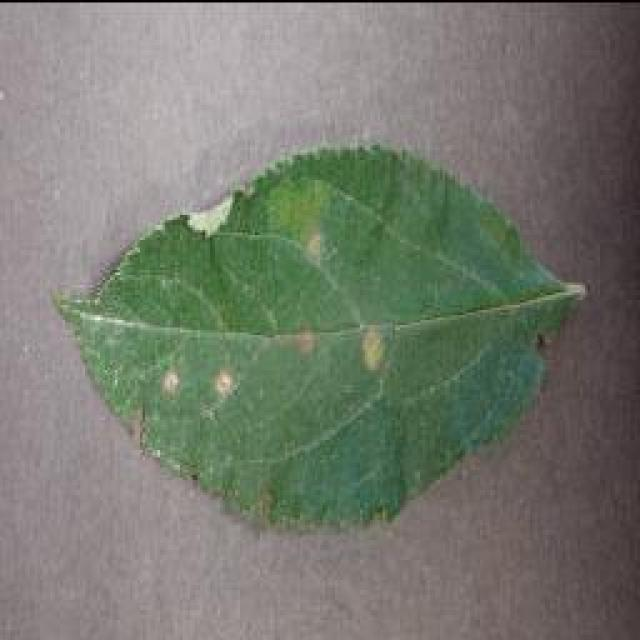apple cedar apple rust: (50, 137, 588, 535)
